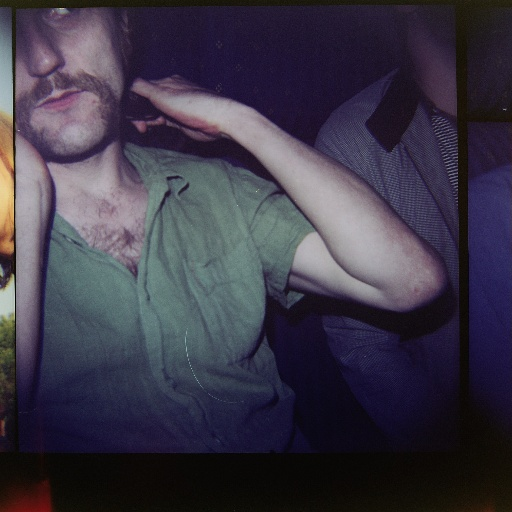hand: (136, 65, 301, 190), (15, 131, 55, 197)
